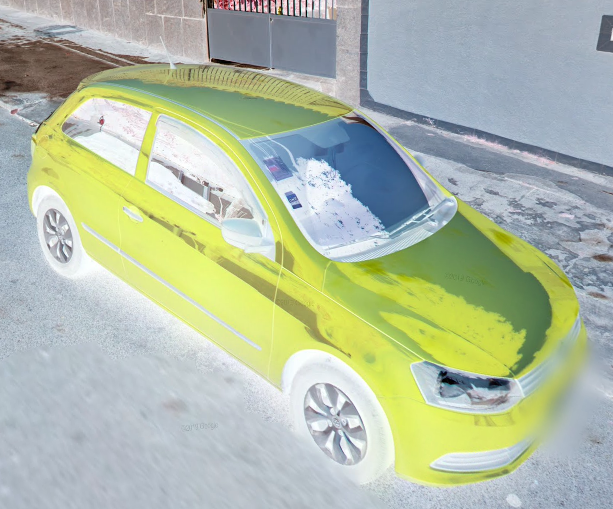car: (25, 61, 590, 488)
